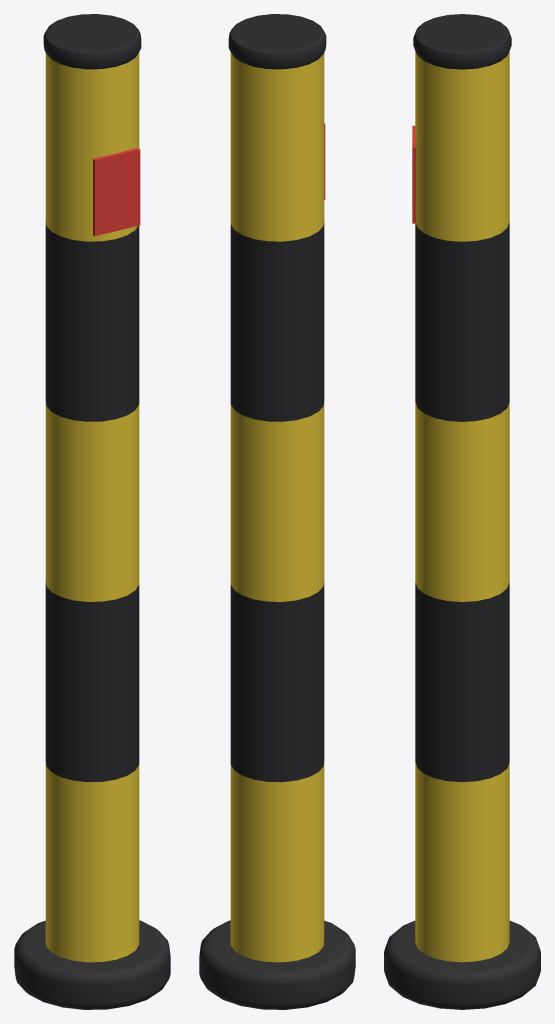
Rendered from post.glb.
3 views of the same model, side by side, from view 1: azimuth 30°, elevation 25°; view 2: azimuth 150°, elevation 25°; view 3: azimuth 270°, elevation 25° (orthographic).
Visible parts, largest first — view 1: SM_post; view 2: SM_post; view 3: SM_post.
Part boxes in pixels (<box>): SM_post: <box>14,14,170,1009</box>; SM_post: <box>199,14,355,1009</box>; SM_post: <box>384,14,540,1009</box>.
Size of the model in its own units: 0.15 by 1 by 0.15.
